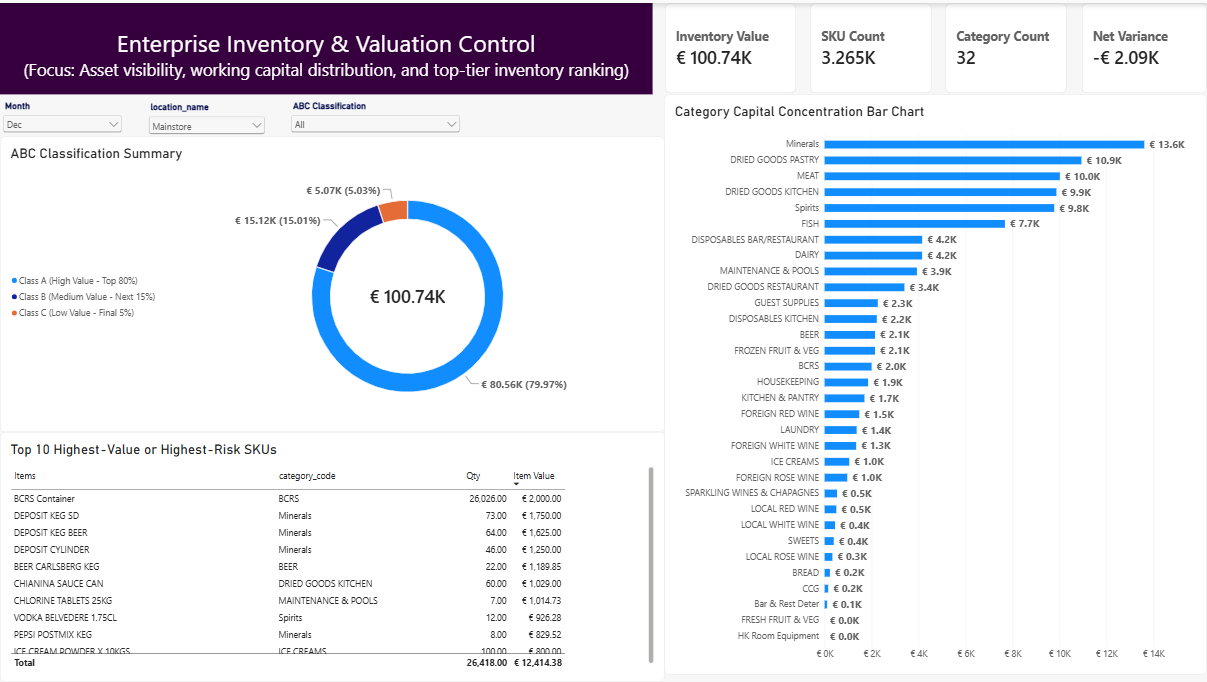

The dashboard page shown, as its layout file describes it:
{"tool":"powerbi","page":{"name":"Finance & Operations (Asset distribution)","canvas":[1920,1080],"ordinal":0},"visuals":[{"type":"cardVisual","fields":{"Data":["vw_abc_inventory_analysis.Inventory_value"]},"box":[1057.5,0,210.3,144.8],"z":0},{"type":"cardVisual","fields":{"Data":["vw_abc_inventory_analysis.total_skus"]},"box":[1287.5,0,194.8,144.8],"z":1000},{"type":"slicer","fields":{"Values":["dim_location.location_name"]},"box":[232.6,156.5,194.8,55.2],"z":2000},{"type":"slicer","fields":{"Values":["dim_month.report_month_name"]},"box":[0,154.3,198.3,58.6],"z":3000},{"type":"donutChart","title":"ABC Classification Summary","fields":{"Category":["vw_abc_inventory_analysis.abc_classification"],"Y":["vw_abc_inventory_analysis.Inventory_value"]},"box":[0,212.5,1057.5,470],"z":4000},{"type":"tableEx","title":"Top 10 Highest-Value or Highest-Risk SKUs","fields":{"Values":["vw_abc_inventory_analysis.stock_item_name","vw_abc_inventory_analysis.category_code","Sum(vw_abc_inventory_analysis.stock_on_hand)","Sum(vw_abc_inventory_analysis.item_value)"]},"box":[0,682.5,1057.5,397.5],"z":5000},{"type":"textbox","box":[0,0,1037.9,145.5],"z":6000},{"type":"cardVisual","fields":{"Data":["vw_abc_inventory_analysis.total_category"]},"box":[1502.5,0,194.8,144.8],"z":7000},{"type":"textbox","box":[0,752,626,283],"z":8000},{"type":"clusteredBarChart","title":"Category Capital Concentration Bar Chart","fields":{"Category":["vw_abc_inventory_analysis.category_code"],"Y":["vw_abc_inventory_analysis.Inventory_value"]},"box":[1057.5,145,862.5,922.5],"z":9000},{"type":"cardVisual","fields":{"Data":["vw_mom_variance_trends.net_variance"]},"box":[1720,0,200,144.2],"z":10000},{"type":"slicer","fields":{"Values":["vw_abc_inventory_analysis.abc_classification"]},"box":[458,156,278,68],"z":11000}]}

Visuals, with their boxes in screenshot pixels (x1, y1, x2, y2), scaled from the page's 1920x1080 canvas onto the 1207x682 screenshot:
cardVisual - vw_abc_inventory_analysis.Inventory_value: <box>665,0,797,91</box>
cardVisual - vw_abc_inventory_analysis.total_skus: <box>809,0,932,91</box>
slicer - dim_location.location_name: <box>146,99,269,134</box>
slicer - dim_month.report_month_name: <box>0,97,125,134</box>
"ABC Classification Summary" donutChart: <box>0,134,665,431</box>
"Top 10 Highest-Value or Highest-Risk SKUs" tableEx: <box>0,431,665,681</box>
textbox: <box>0,0,652,92</box>
cardVisual - vw_abc_inventory_analysis.total_category: <box>945,0,1067,91</box>
textbox: <box>0,475,394,654</box>
"Category Capital Concentration Bar Chart" clusteredBarChart: <box>665,92,1206,674</box>
cardVisual - vw_mom_variance_trends.net_variance: <box>1081,0,1206,91</box>
slicer - vw_abc_inventory_analysis.abc_classification: <box>288,99,463,141</box>
